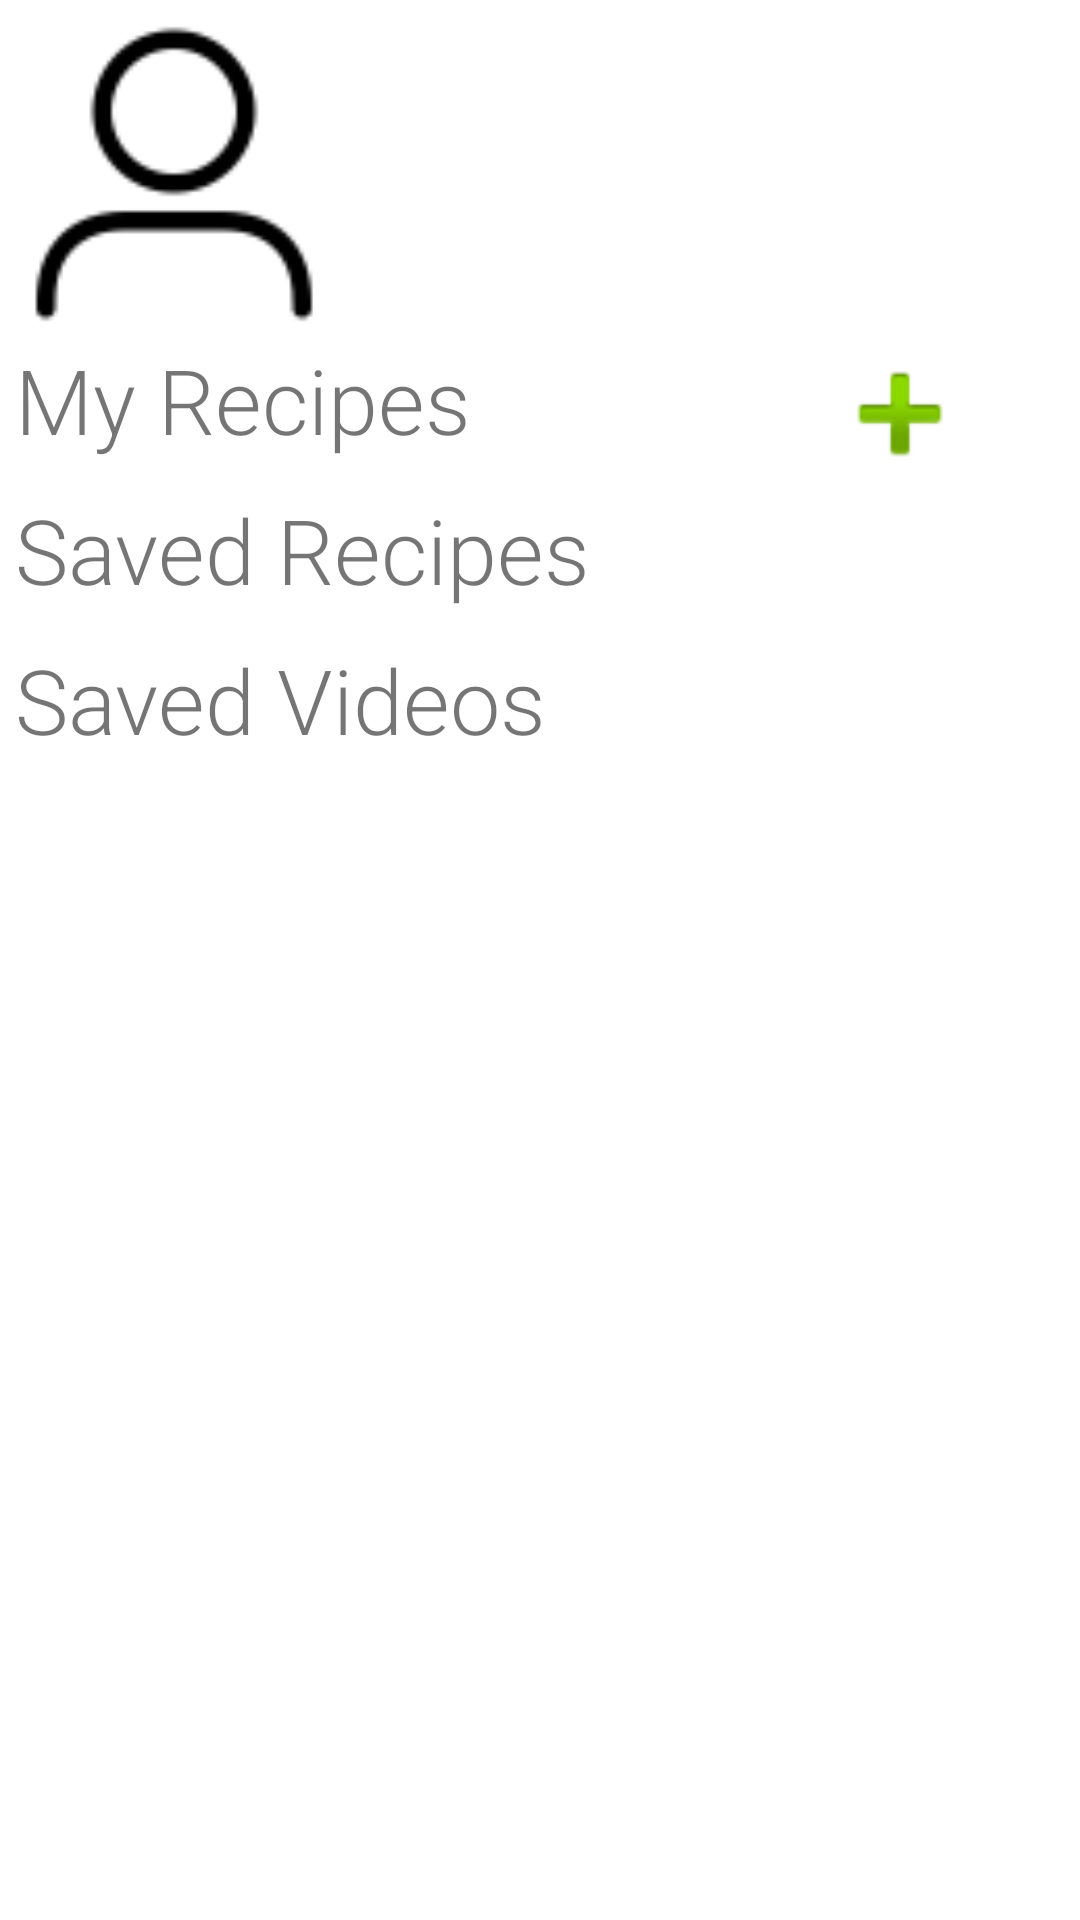

Named icons in this screenshot (1080x1920) and their centers, [x,y]:
add: [900,414]
user profile pic icon: [174,174]
